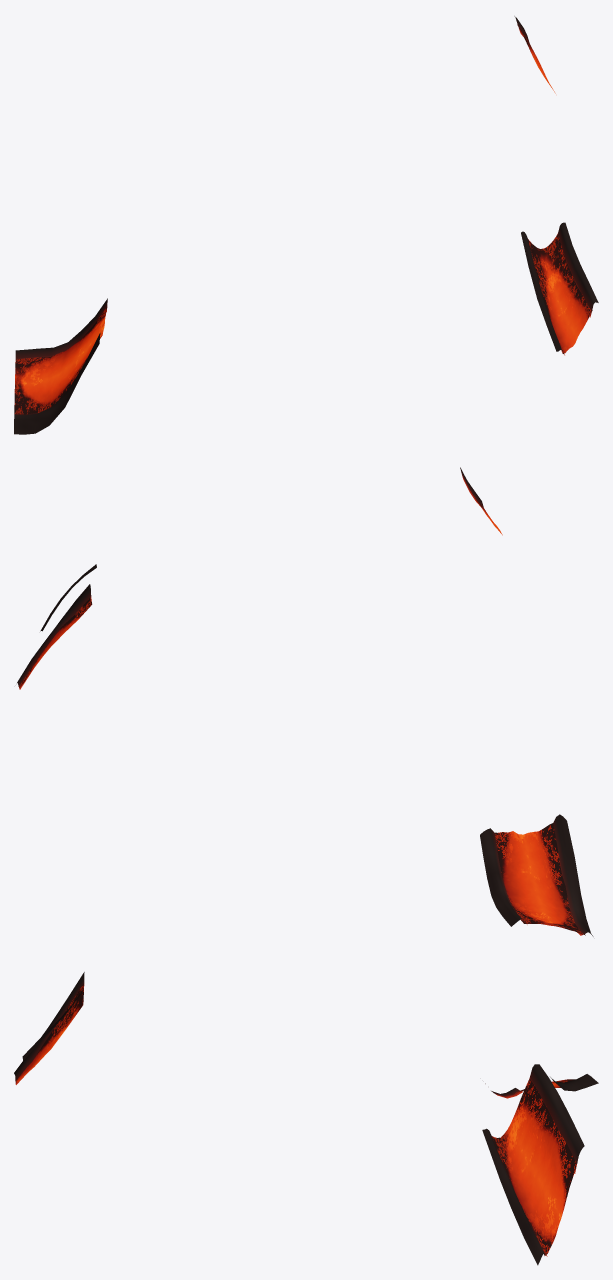
File: lava_seg_3.glb
3 renders of one model, top to bottom at view 1: azimuth 30°, elevation 25°; view 2: azimuth 150°, elevation 25°; view 3: azimuth 270°, elevation 25°, orthographic. The views are drawn at different scales.
Visible parts, largest first — view 1: seg; view 2: seg; view 3: seg.
Boxes of the visible parts, x1,y1,x2,y2 form: seg: (14,16,598,434); seg: (17,467,593,936); seg: (14,972,598,1265).
Bounding box in the file's own units: 56.77 × 25.74 × 45.56.
